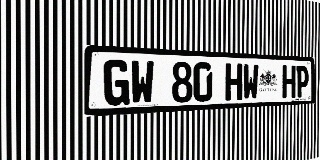0: (193, 62, 212, 102)
8: (172, 61, 193, 103)
G: (103, 59, 129, 106)
H: (225, 63, 242, 101), (282, 65, 296, 98)
P: (296, 65, 309, 98)
W: (130, 60, 154, 105), (243, 64, 259, 100)
